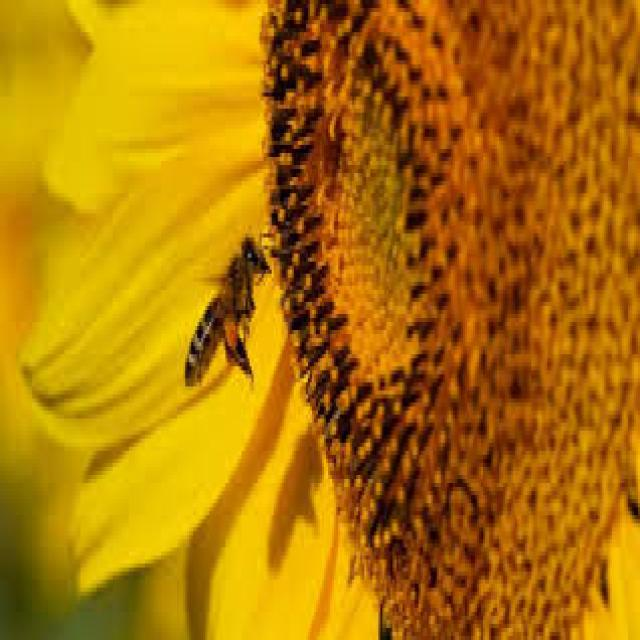Bees: (183, 231, 271, 390)
